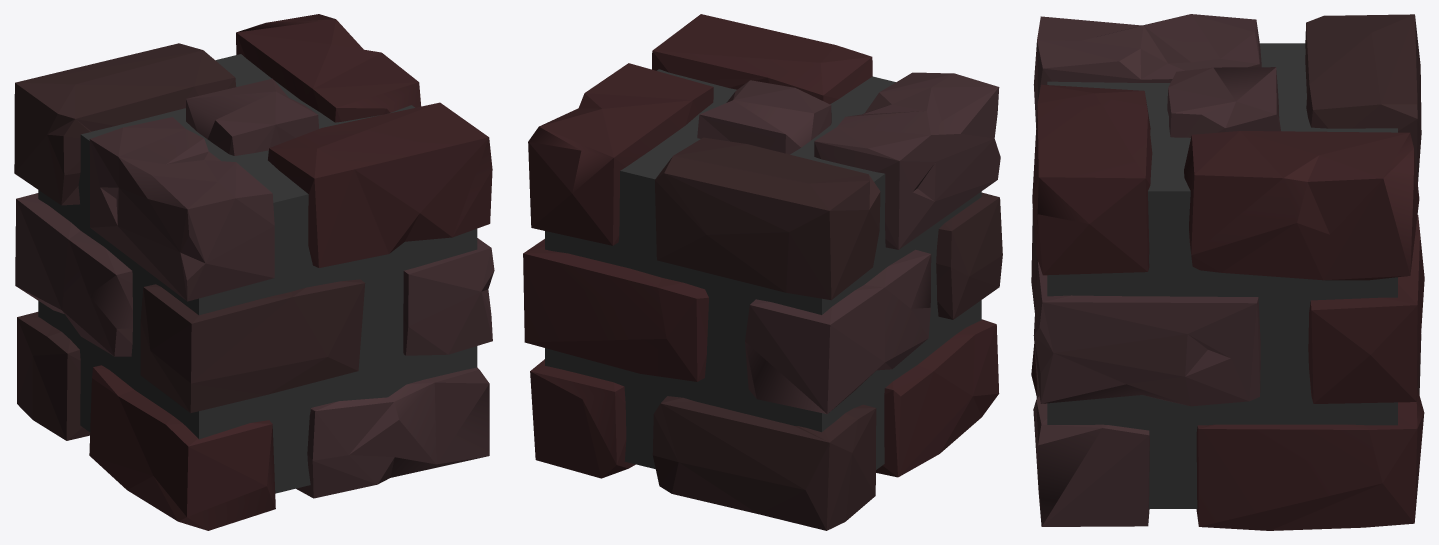
File: brickblock_1.fbx
3 views of the same model, side by side, from view 1: azimuth 30°, elevation 25°; view 2: azimuth 150°, elevation 25°; view 3: azimuth 270°, elevation 25° (orthographic). The views are drawn at different scales.
Parts seen in each view (by area): view 1: brickblock_1; view 2: brickblock_1; view 3: brickblock_1.
Part boxes in pixels (x1,y1,x2,y2): brickblock_1: (14, 14, 494, 530); brickblock_1: (523, 14, 1002, 530); brickblock_1: (1031, 14, 1424, 530).
Bounding box in the file's own units: 1.08 × 1.1 × 1.07.
